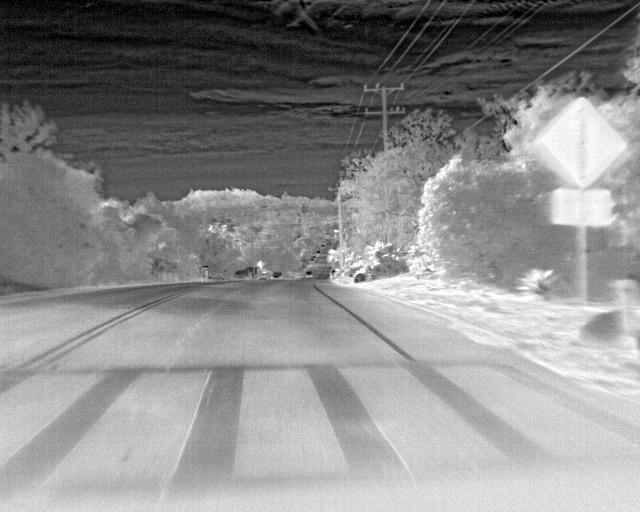car: (231, 269, 252, 282), (246, 266, 258, 280), (269, 271, 282, 280), (304, 269, 313, 280)
